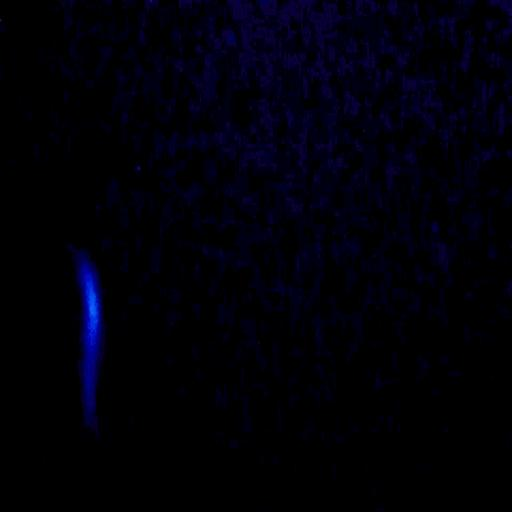object-detection-project: (73, 251, 101, 432)
